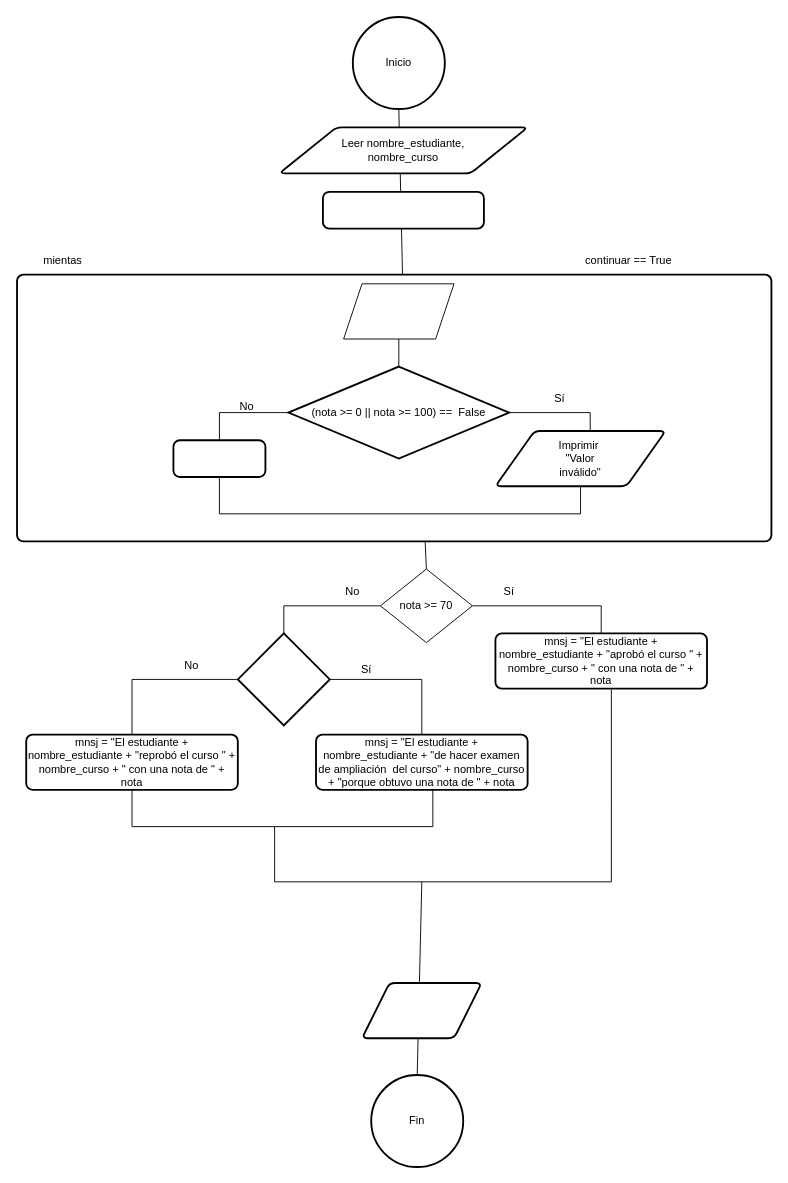
The diagram is 788 pixels wide and 1183 high, and some of its shapes have lost their labels. Each missing label, with the centre of its shape:
continuar = False: the point at 219,458
continuar = True: the point at 403,209
Imprimir mnsj: the point at 421,1010
Leer nota: the point at 398,311
nota >= 60: the point at 283,679
